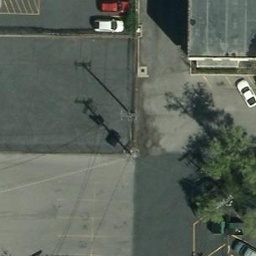car: (232, 74, 256, 107), (94, 1, 132, 15), (92, 17, 125, 32)
